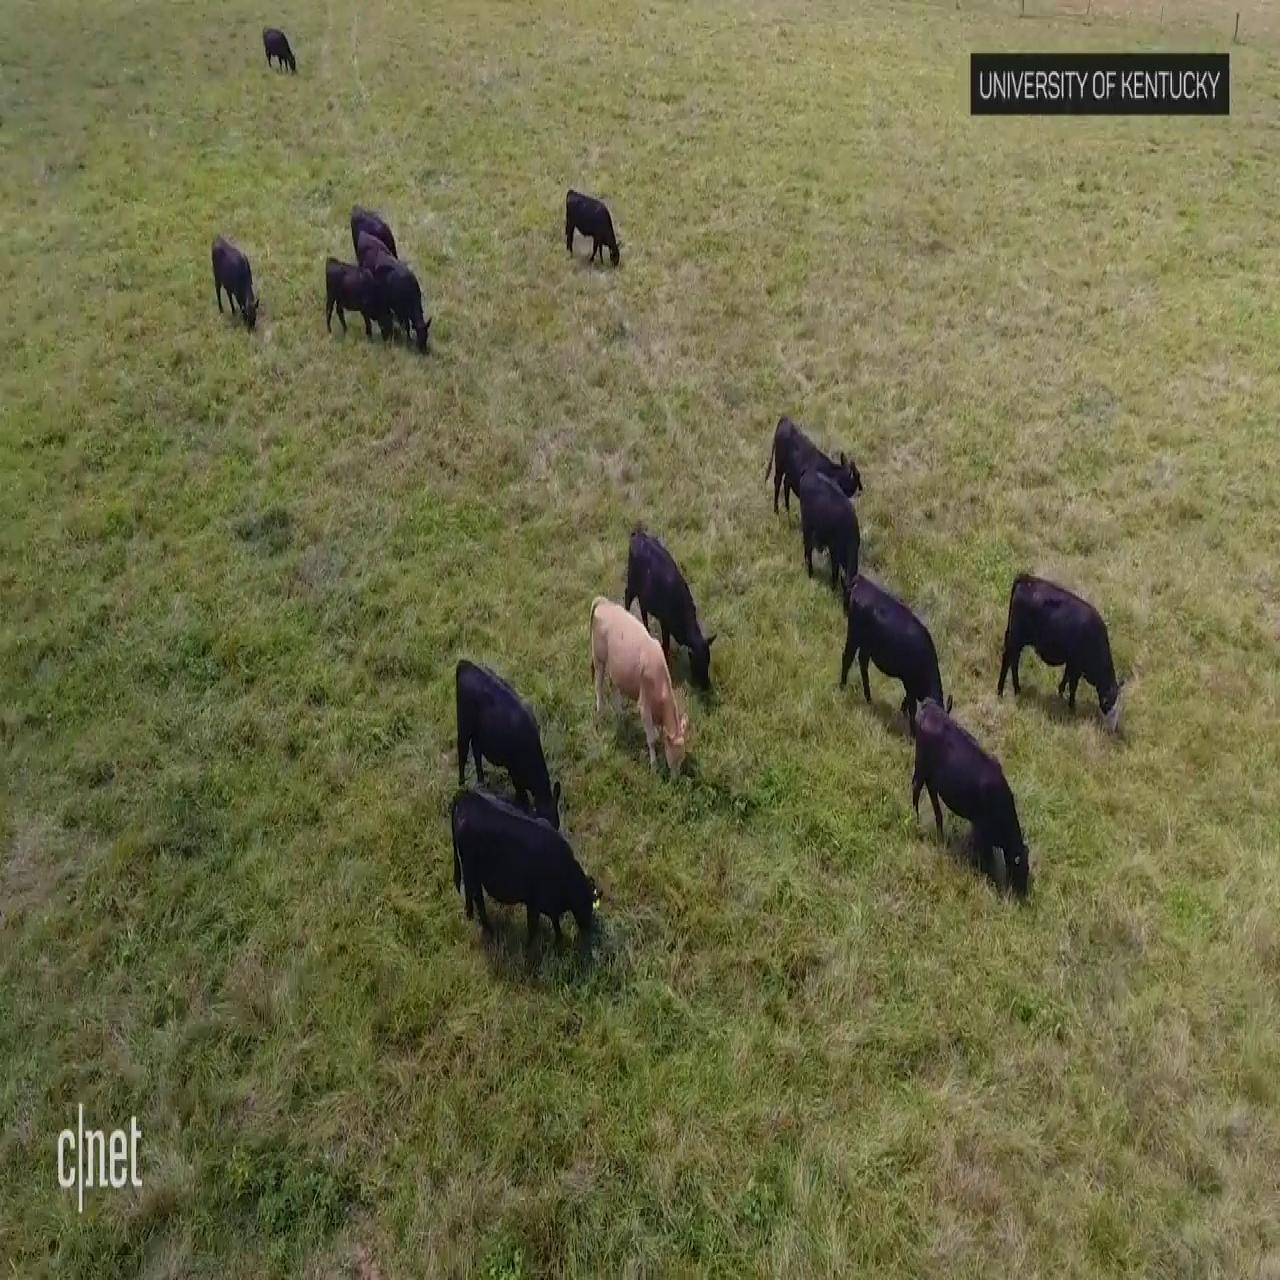cow: (444, 785, 594, 965), (914, 707, 1036, 907), (994, 572, 1129, 731), (836, 576, 952, 736), (456, 652, 561, 821), (585, 600, 688, 768), (628, 524, 714, 696), (761, 415, 852, 519), (798, 468, 864, 597), (372, 263, 454, 361), (324, 252, 399, 345), (559, 189, 622, 271), (209, 233, 259, 325), (347, 202, 402, 271), (263, 21, 298, 77)
